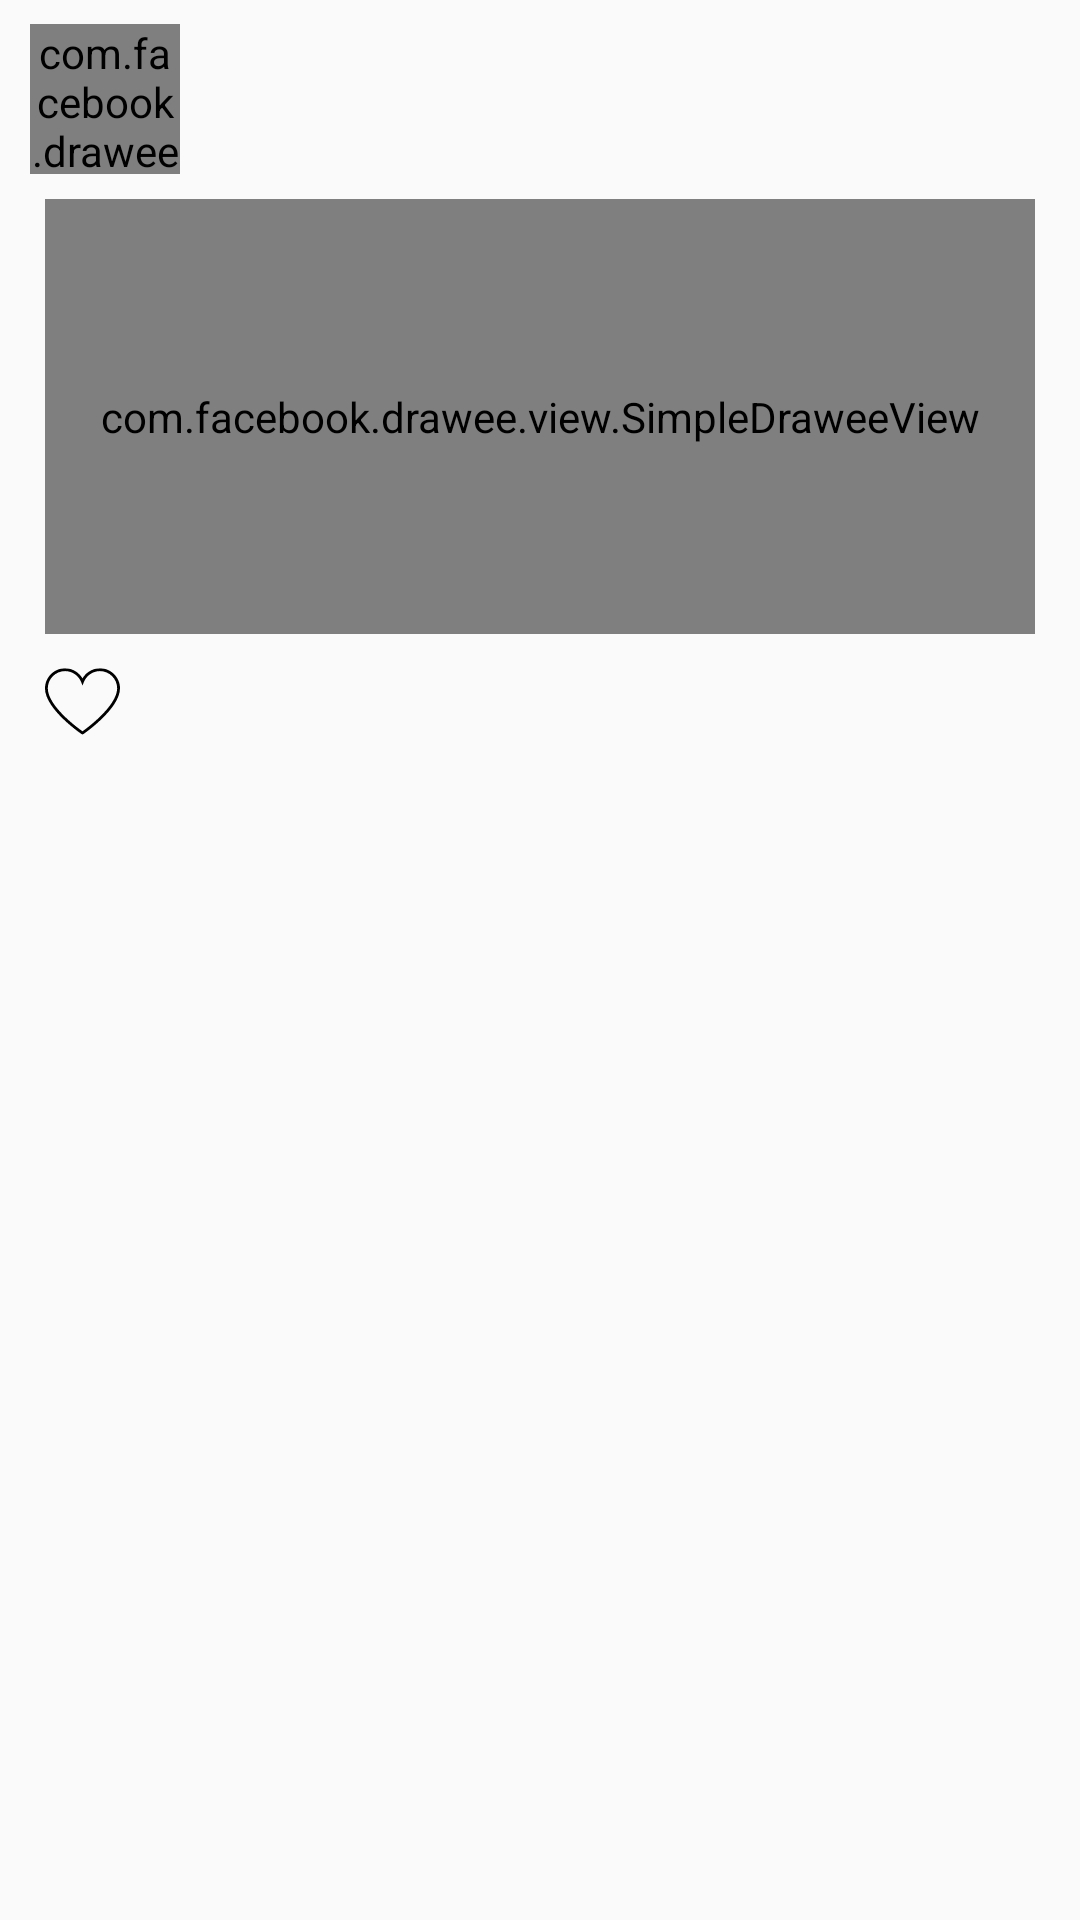

Screen size 1080px x 1920px. Icon name, then its center in pixels as (x=x, y=y):
heart: (x=82, y=701)
